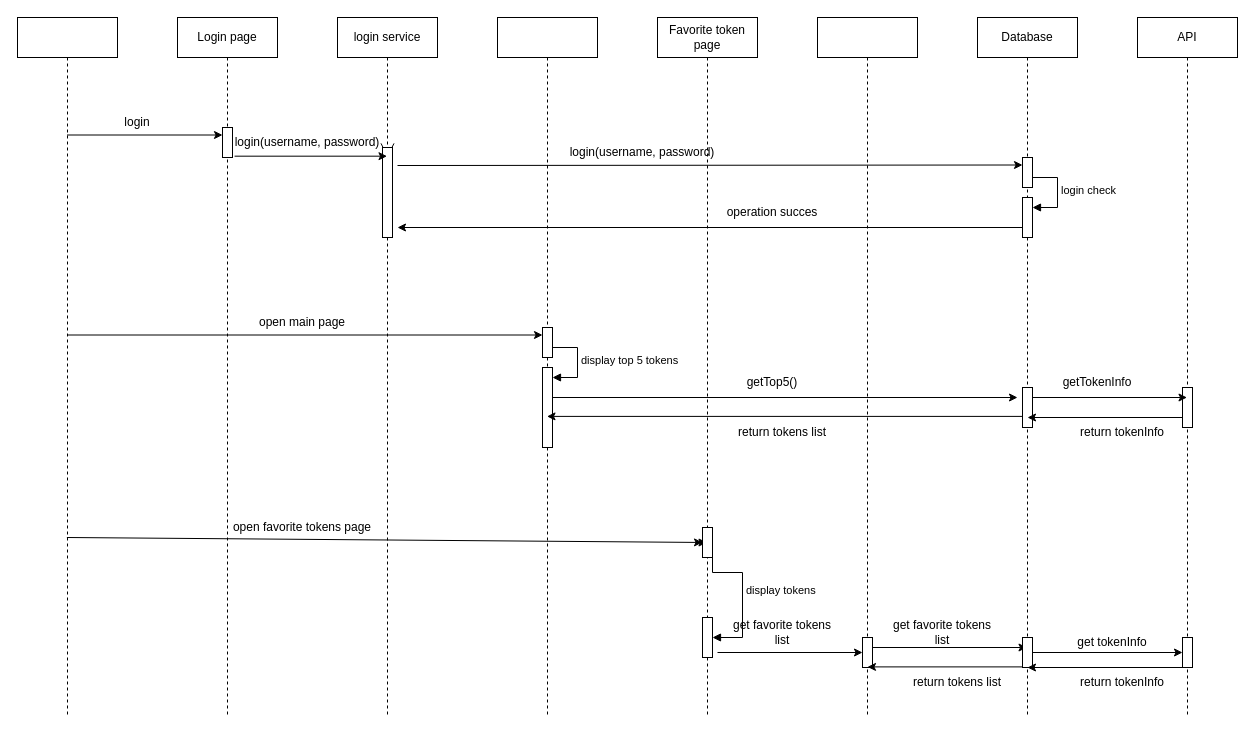
The diagram is 1255 pixels wide and 735 high, and some of its shapes have lost their labels. Here are the shapes that lost their labels. From the top down, the box of each, then its label:
(16, 16, 118, 718): User
(496, 16, 598, 718): Home page
(816, 16, 918, 718): Selected serivce
